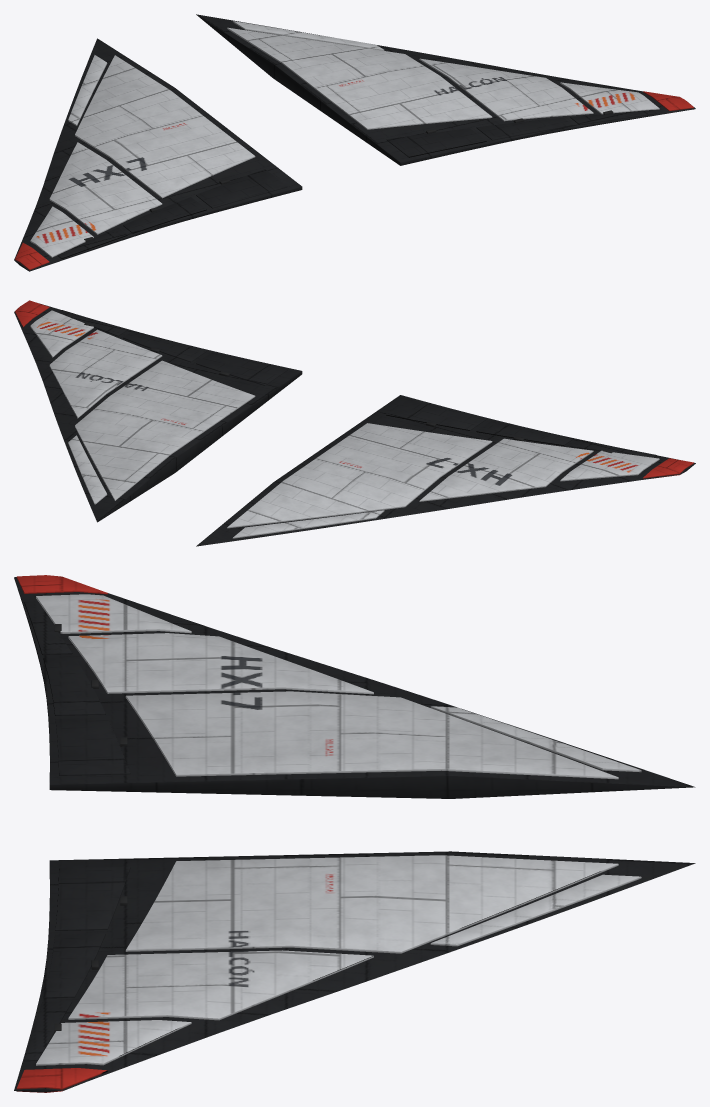
The model's file is Alas.fbx.
The picture shows the model from 3 angles, top to bottom: view 1: azimuth 30°, elevation 25°; view 2: azimuth 150°, elevation 25°; view 3: azimuth 270°, elevation 25°; orthographic projection. The views are drawn at different scales.
Visible parts, largest first — view 1: Alas; view 2: Alas; view 3: Alas.
Part boxes in pixels (box(x1,y1,x2,y2)): Alas: box(14, 14, 695, 271); Alas: box(14, 300, 695, 546); Alas: box(14, 575, 695, 1092).
Size of the model in its own units: 2720 by 65.81 by 1527.
